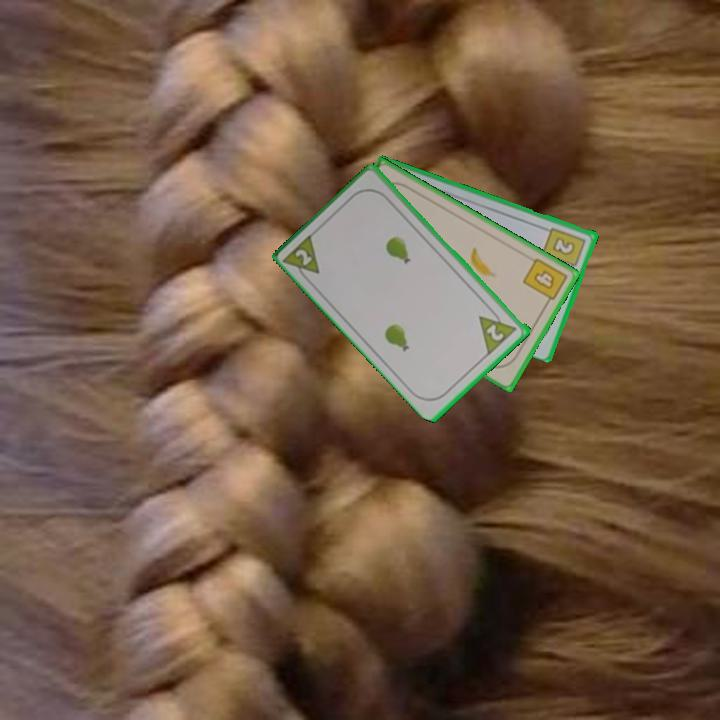2b: (540, 224, 589, 274)
2p: (475, 303, 520, 357), (281, 229, 323, 286)
4b: (519, 254, 570, 309)
